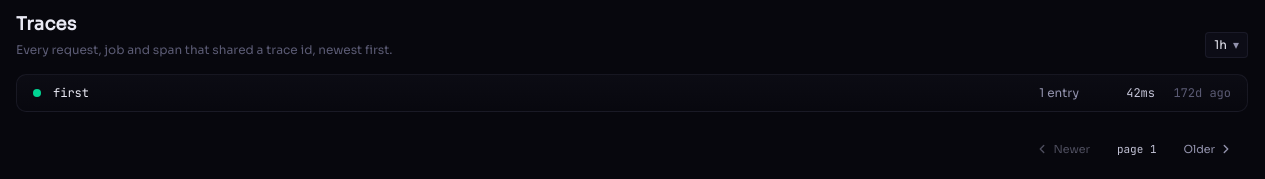
it: TracesPage › pages older with the nextCursor, and back to the newer page
Expected: the text "first" is shown, [53,85,89,101]
Step 1. Click the button with aria-label "Older traces" → {"x": 1208, "y": 149}, box [1172,136,1244,162]
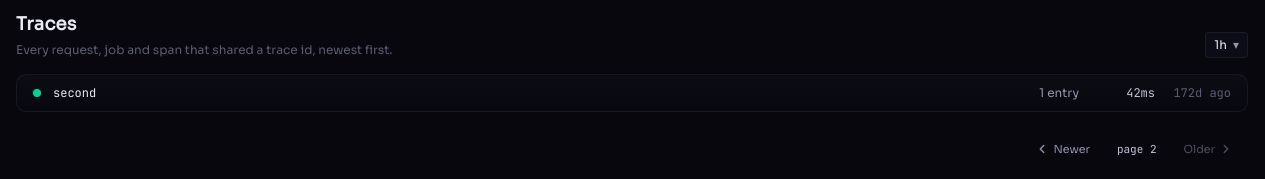
Expected: the text "second" is shown, [53,85,96,101]
Expected: the button with aria-label "Older traces" is disabled, [1172,136,1244,162]
Step 2. Click the button with aria-label "Newer traces" → {"x": 1063, "y": 149}, box [1024,136,1101,162]
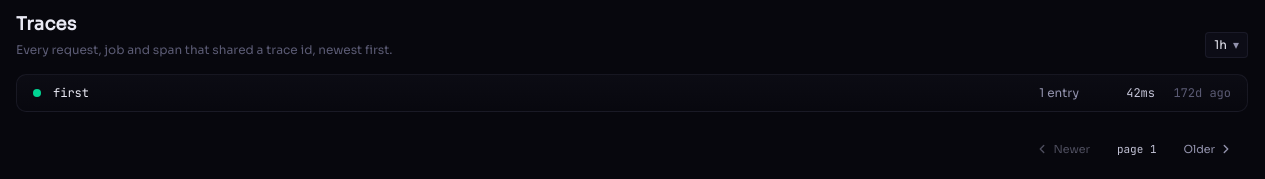
Expected: the text "first" is shown, [53,85,89,101]
